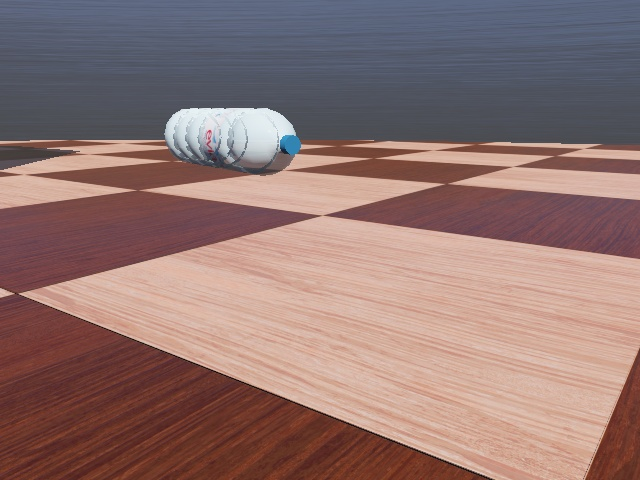chai_nhua: (164, 105, 304, 174)
